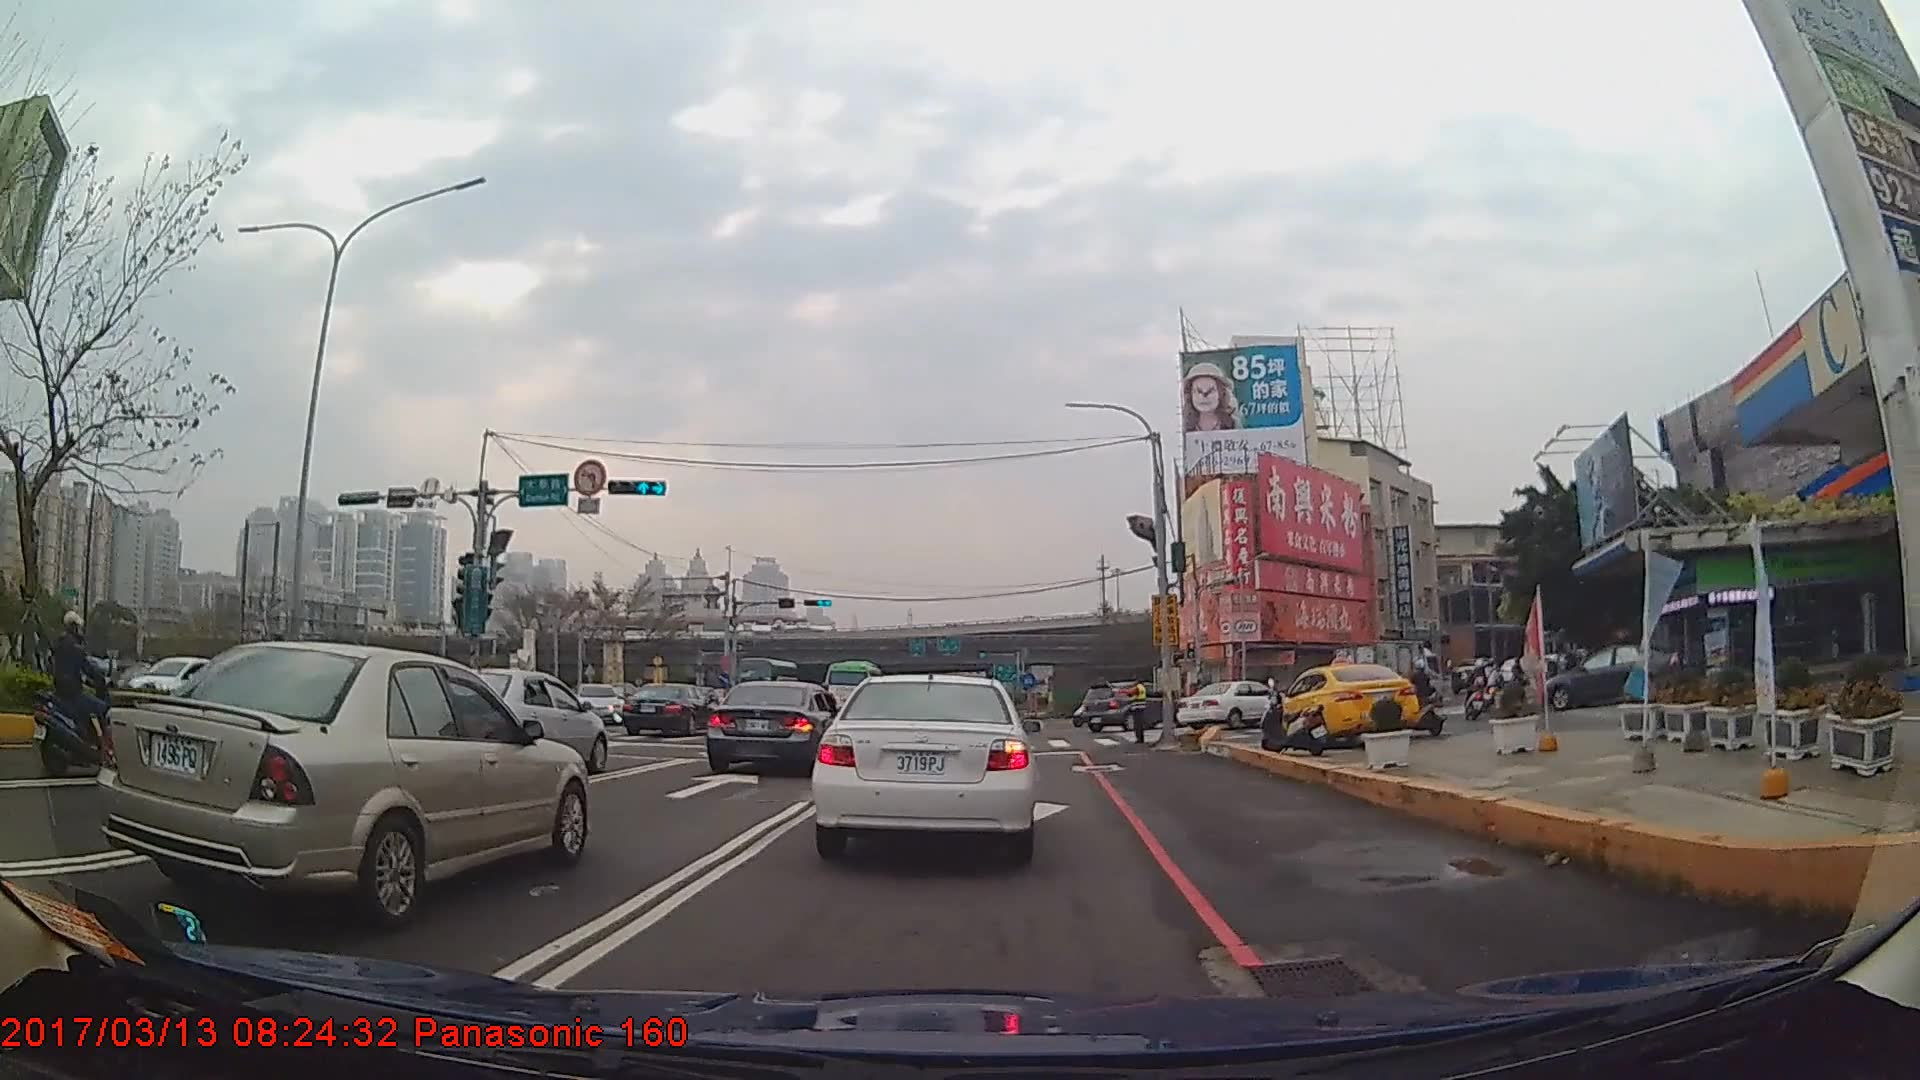pedestrian: (1112, 674, 1150, 746)
rider: (33, 613, 130, 779), (1402, 662, 1445, 740), (1465, 658, 1489, 720)
vehicle: (101, 640, 591, 923), (815, 665, 1035, 862), (420, 668, 607, 776), (702, 678, 844, 778), (1273, 660, 1421, 748), (1540, 643, 1681, 709), (1327, 640, 1444, 711), (1080, 680, 1190, 731), (1176, 680, 1286, 730), (621, 682, 715, 736), (823, 657, 885, 714)
